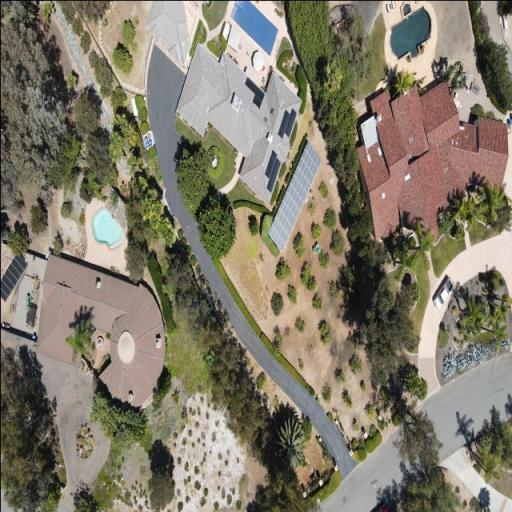solar-panel: (267, 139, 321, 252), (0, 254, 27, 301), (264, 149, 280, 193), (276, 107, 296, 139), (244, 76, 264, 108)
